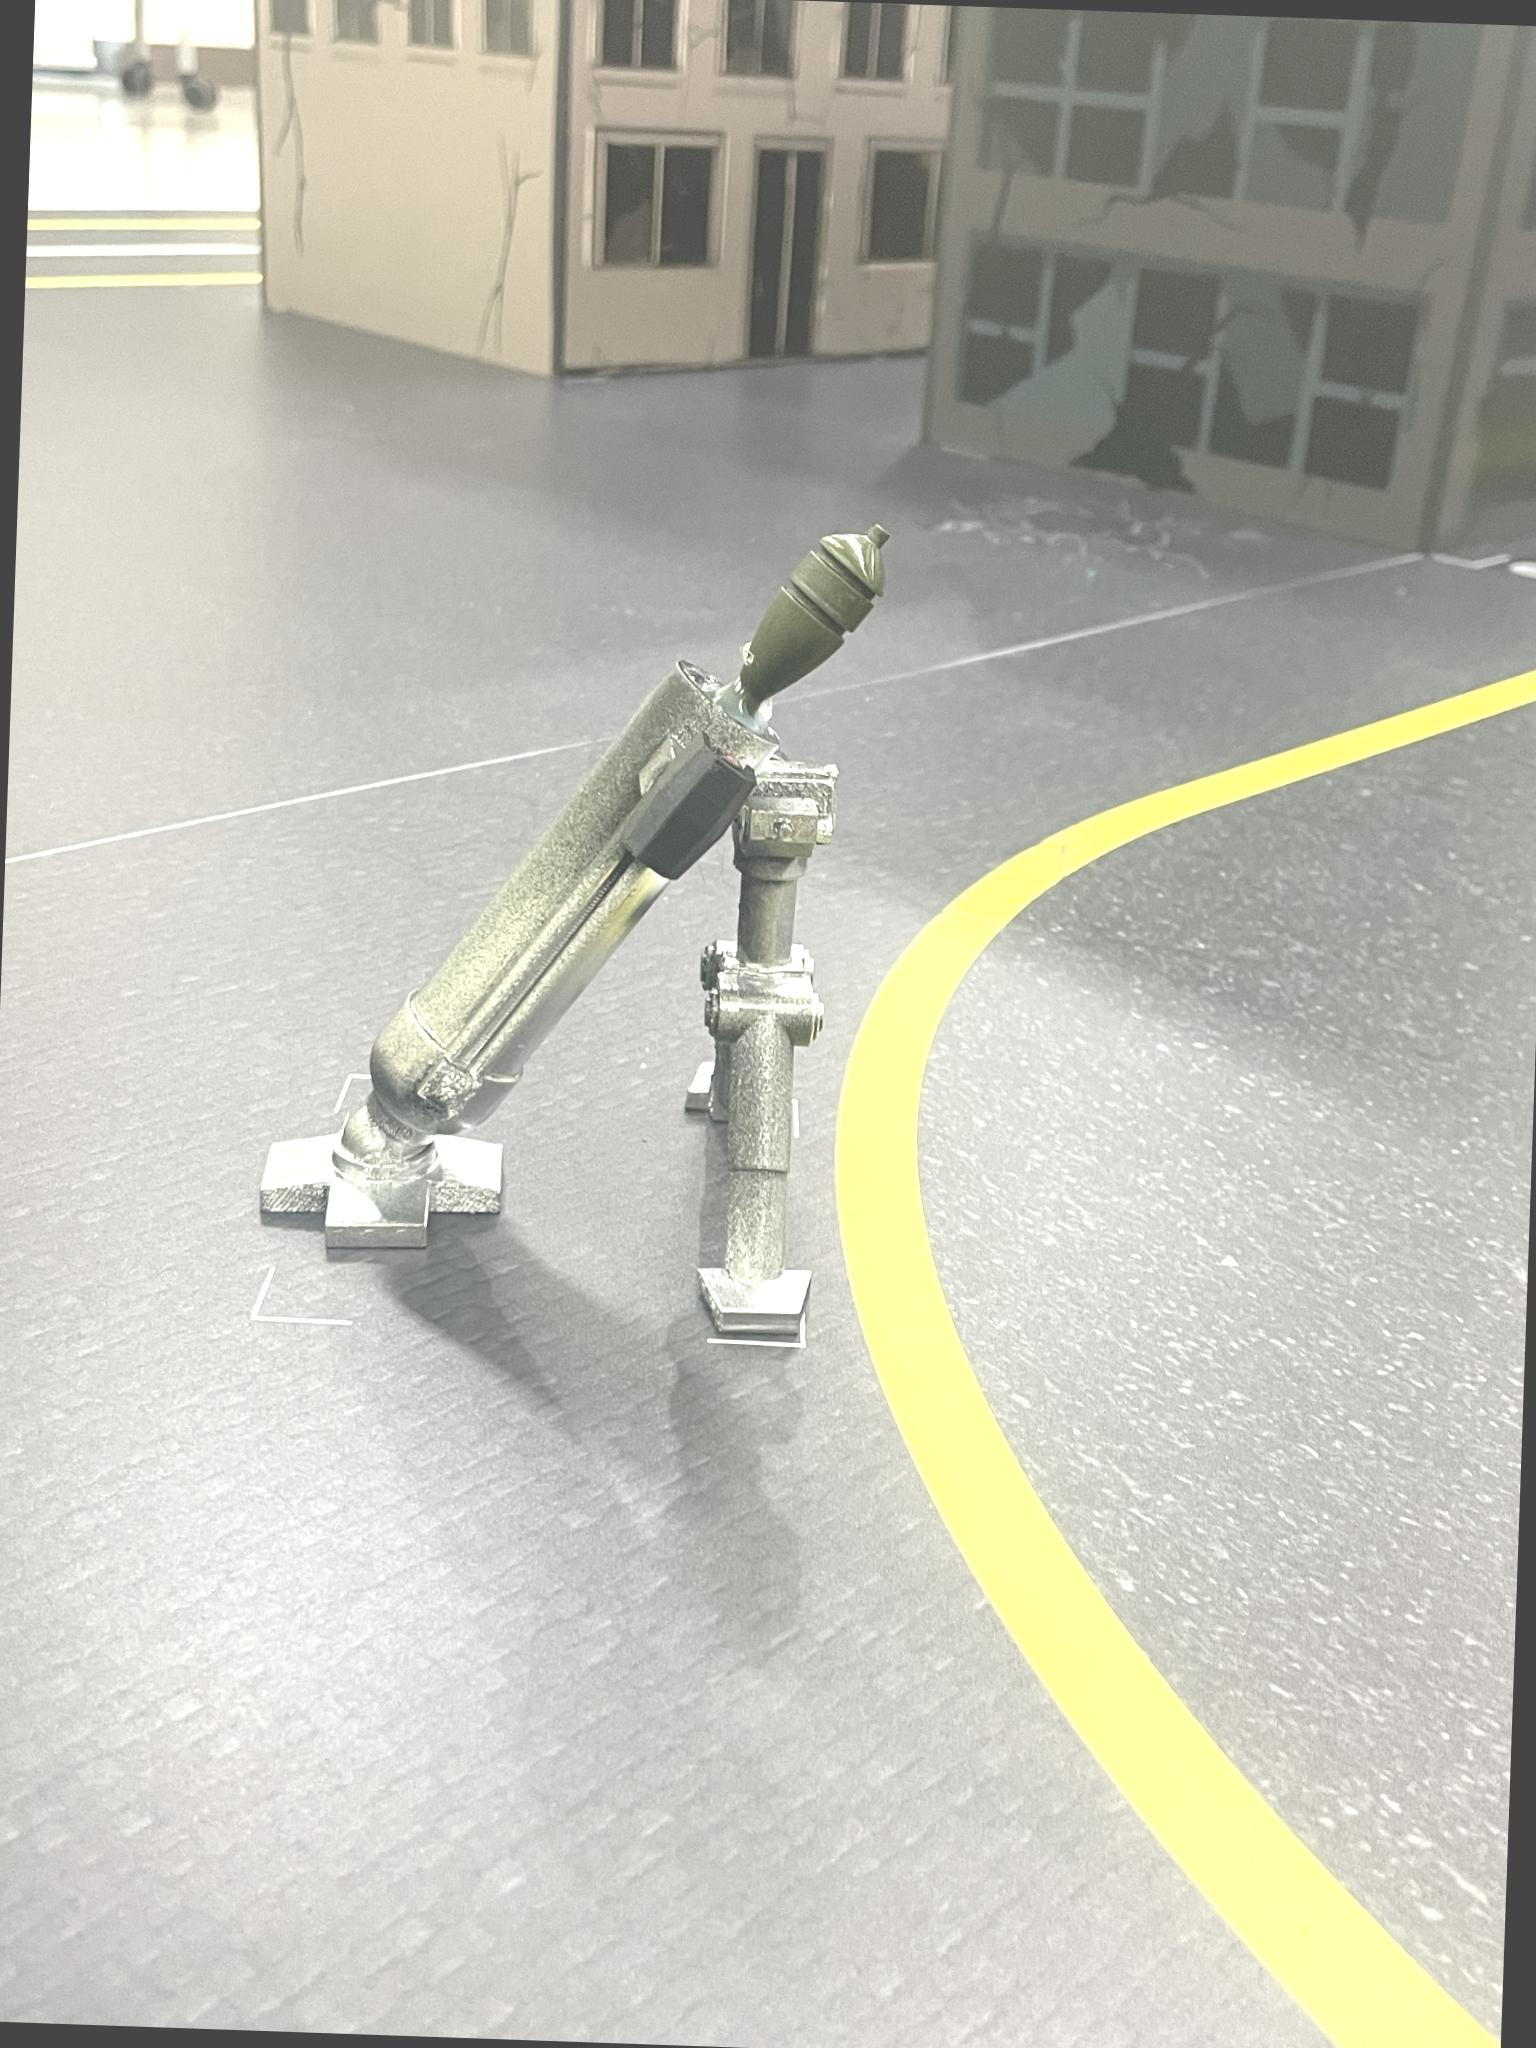Mortar: (250, 463, 910, 1373)
